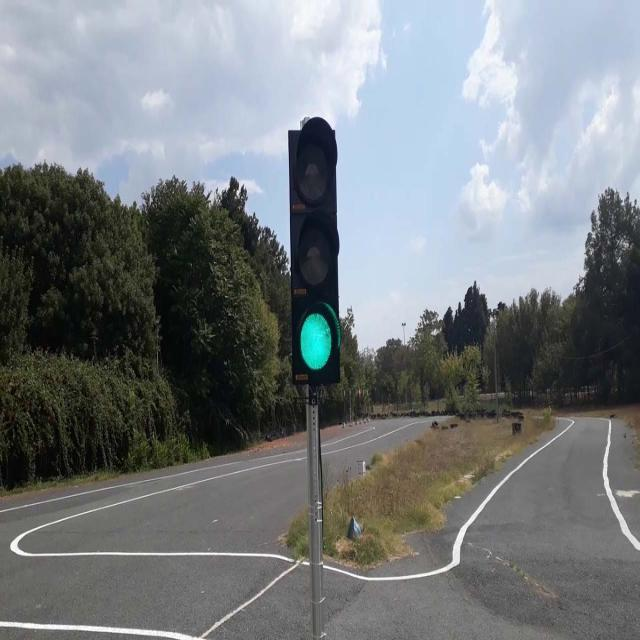yesil: (286, 123, 342, 384)
